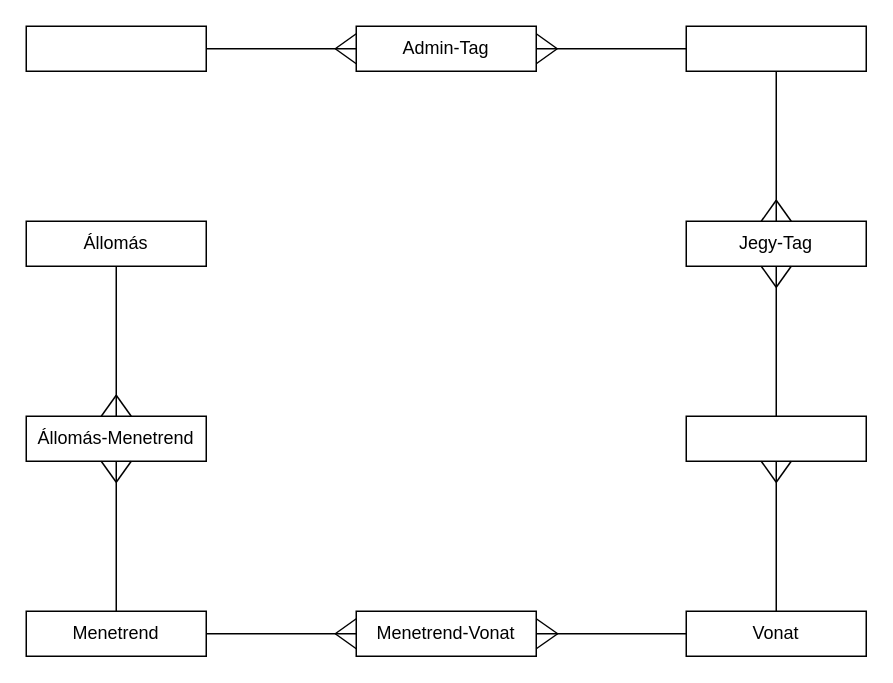
Some shapes in this 893 by 683 pixel diagram are drawn without their labels. The centre of each missing label's shape, as x and y in pixels:
"Admin" goes at point 115,48.
"Jegy" goes at point 775,438.
"Tag" goes at point 775,48.
